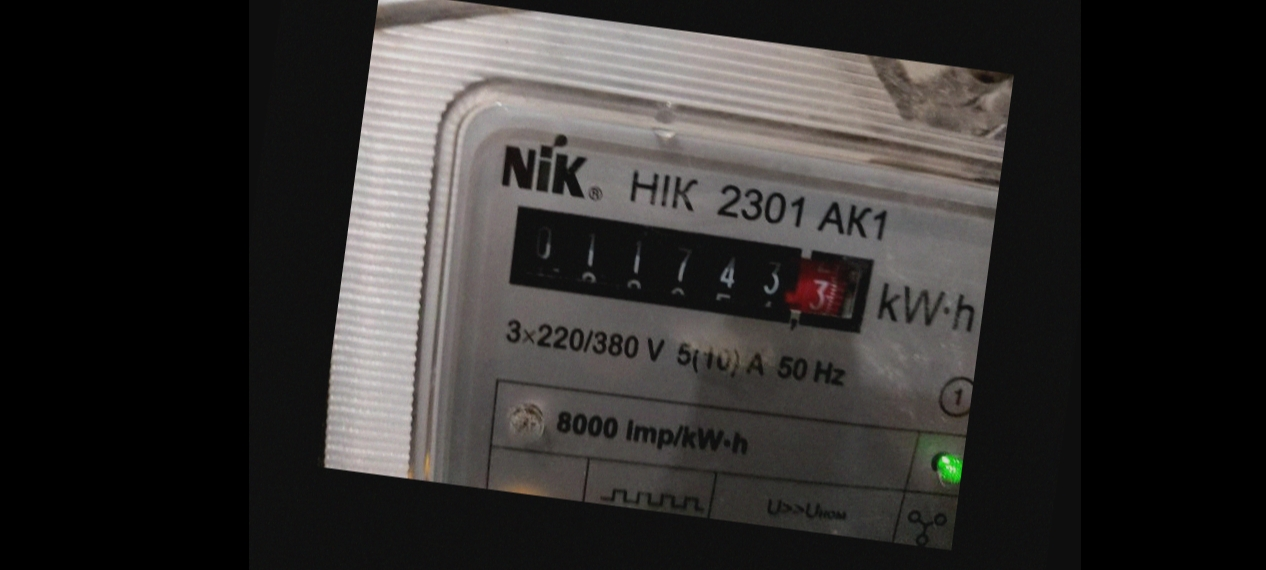0: (530, 224, 557, 265), (580, 229, 603, 272)
1: (626, 236, 647, 279)
3: (759, 257, 785, 302), (806, 276, 831, 316)
4: (715, 251, 740, 293)
7: (668, 242, 697, 289)
screen: (486, 192, 885, 349)
